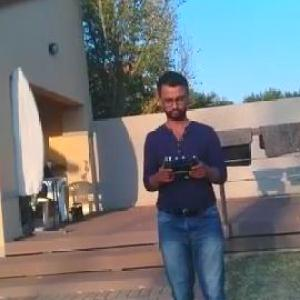follow: (136, 67, 236, 299)
